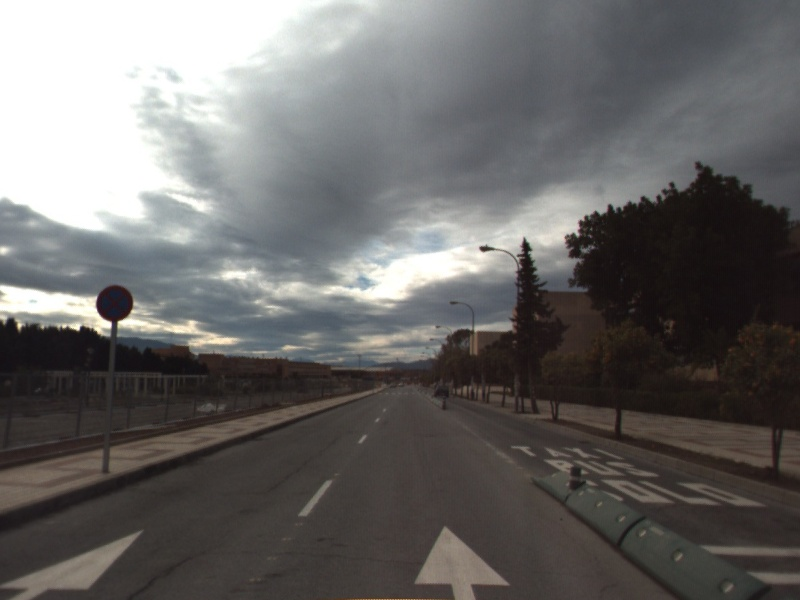STRAIGHT: (1, 525, 148, 600), (410, 521, 514, 600)
